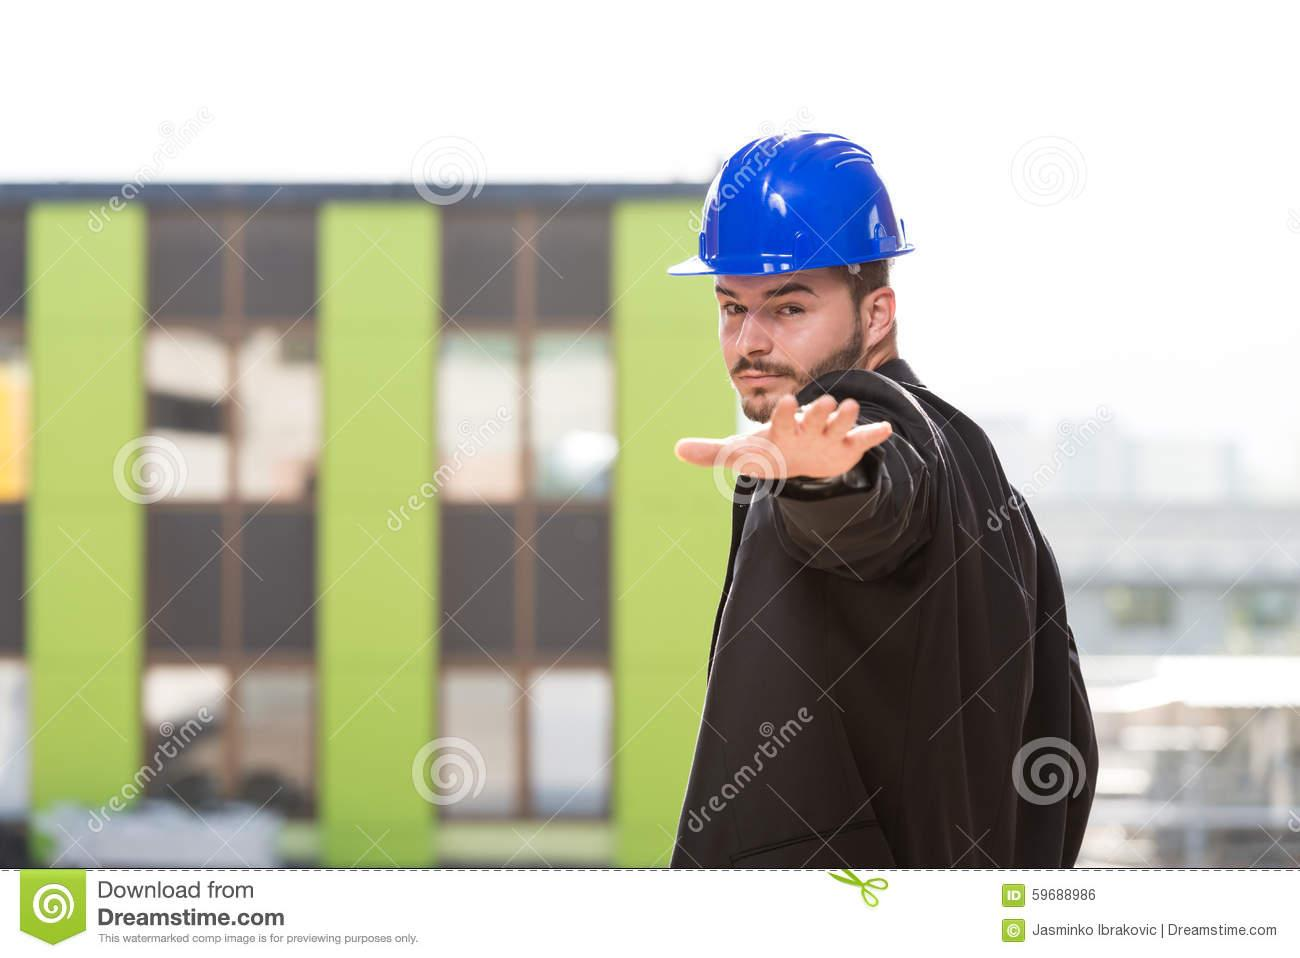helmet: (674, 128, 911, 270)
